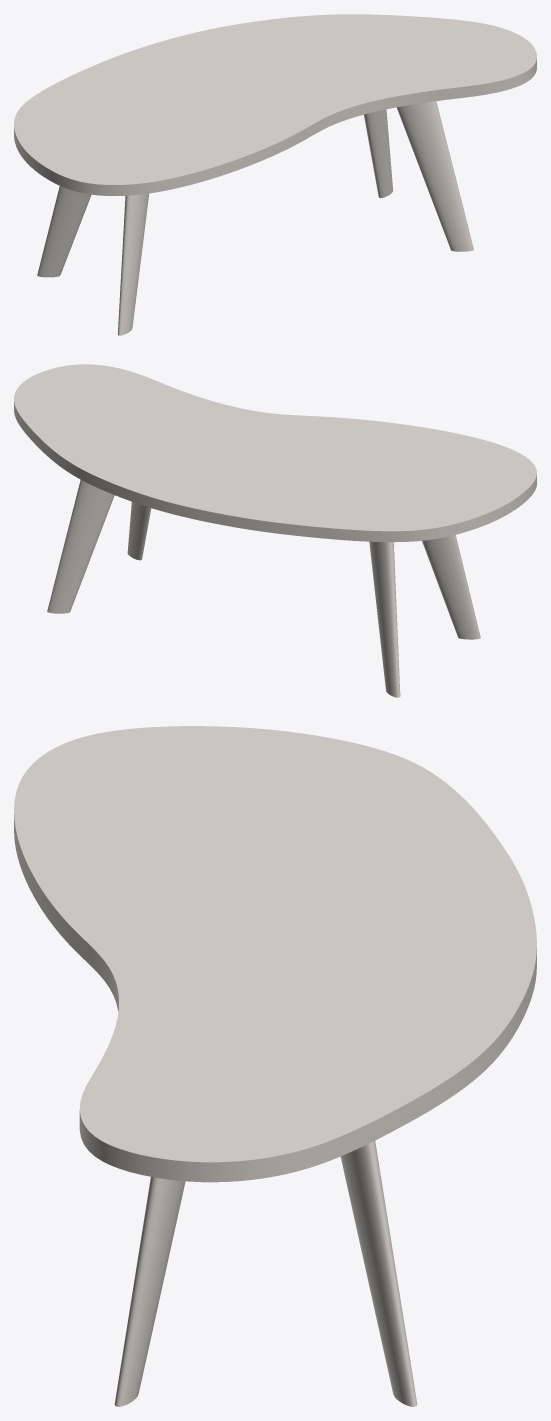
Rendered from pearlwhite_leaf1_standard_ferdinantwalnut.glb.
3 renders of one model, top to bottom at view 1: azimuth 30°, elevation 25°; view 2: azimuth 150°, elevation 25°; view 3: azimuth 270°, elevation 25°, orthographic. The views are drawn at different scales.
Visible parts, largest first — view 1: standard_leaf1, ferdinandwalnut; view 2: standard_leaf1, ferdinandwalnut; view 3: standard_leaf1, ferdinandwalnut.
Boxes of the visible parts, left/top/right/bottom form: standard_leaf1: left=14, top=14, right=536, bottom=195; ferdinandwalnut: left=37, top=101, right=473, bottom=335; standard_leaf1: left=14, top=364, right=536, bottom=542; ferdinandwalnut: left=47, top=480, right=480, bottom=697; standard_leaf1: left=14, top=726, right=536, bottom=1182; ferdinandwalnut: left=114, top=1141, right=417, bottom=1406.
Bounding box in the file's own units: 7.5 × 2.51 × 3.8.
Materials: 1 (1 with a texture image).
